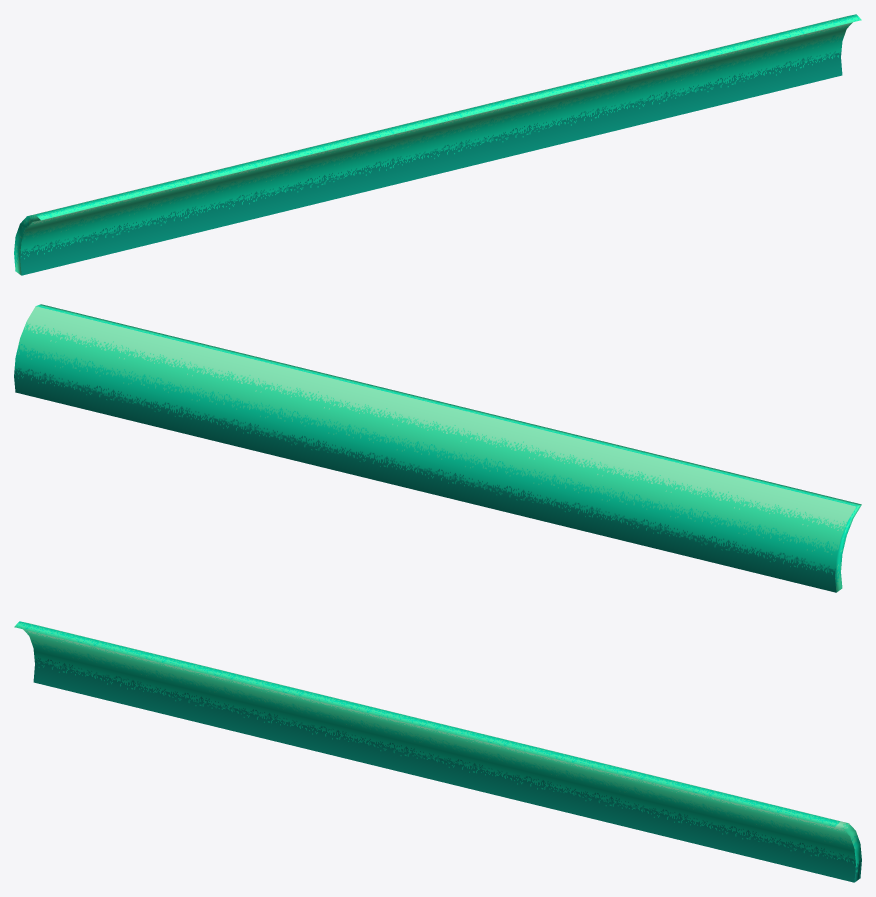
The model's file is Lighting.fbx.
3 renders of one model, top to bottom at view 1: azimuth 30°, elevation 25°; view 2: azimuth 150°, elevation 25°; view 3: azimuth 330°, elevation 25°, orthographic.
Parts seen in each view (by area): view 1: Lighting; view 2: Lighting; view 3: Lighting.
Boxes of the visible parts, x1=… form: Lighting: x1=14, y1=14, x2=861, y2=275; Lighting: x1=14, y1=304, x2=861, y2=592; Lighting: x1=14, y1=621, x2=861, y2=882.
Size of the model in its own units: 747 by 62.19 by 42.64.
